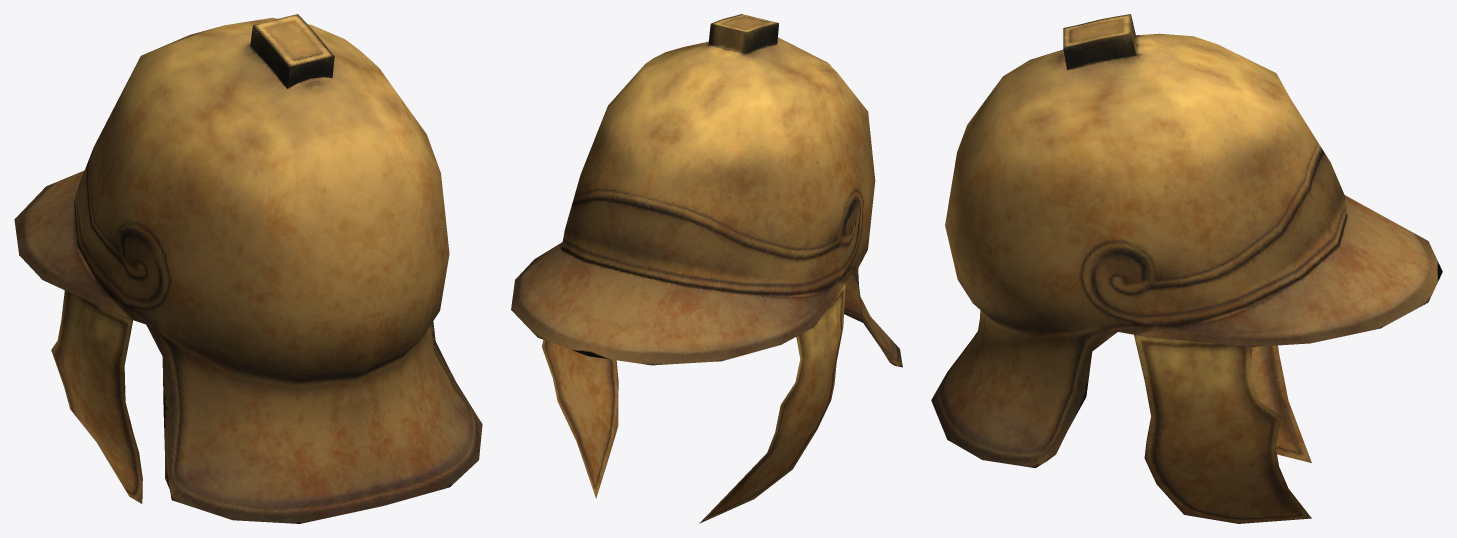
Rendered from helm_hele_thracian_b8.glb.
3 renders of one model, left to right at view 1: azimuth 30°, elevation 25°; view 2: azimuth 150°, elevation 25°; view 3: azimuth 270°, elevation 25°, orthographic. The views are drawn at different scales.
Visible parts, largest first — view 1: helm_hele_thracian_b8_part0; view 2: helm_hele_thracian_b8_part0; view 3: helm_hele_thracian_b8_part0.
Boxes of the visible parts, <box> form: helm_hele_thracian_b8_part0: <box>14,14,482,523</box>; helm_hele_thracian_b8_part0: <box>511,14,902,523</box>; helm_hele_thracian_b8_part0: <box>931,14,1442,523</box>.
Bounding box in the file's own units: 0.4953 × 0.7168 × 0.712.
1 material, 1 textured.
